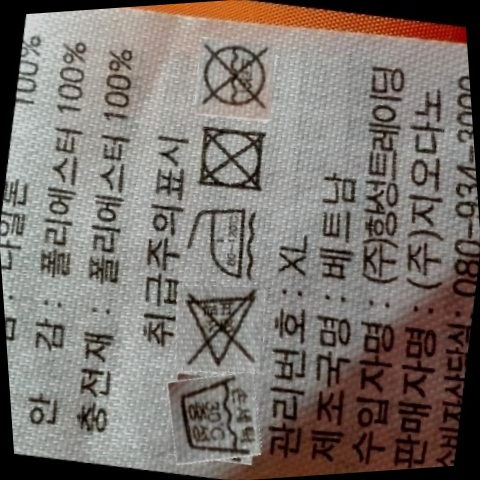DN_dry_clean: (192, 37, 279, 115)
DN_tumble_dry: (191, 119, 275, 197)
hand_wash: (169, 369, 268, 468)
iron_low: (184, 196, 266, 288)
non_chlorine_bleach: (182, 283, 268, 374)
